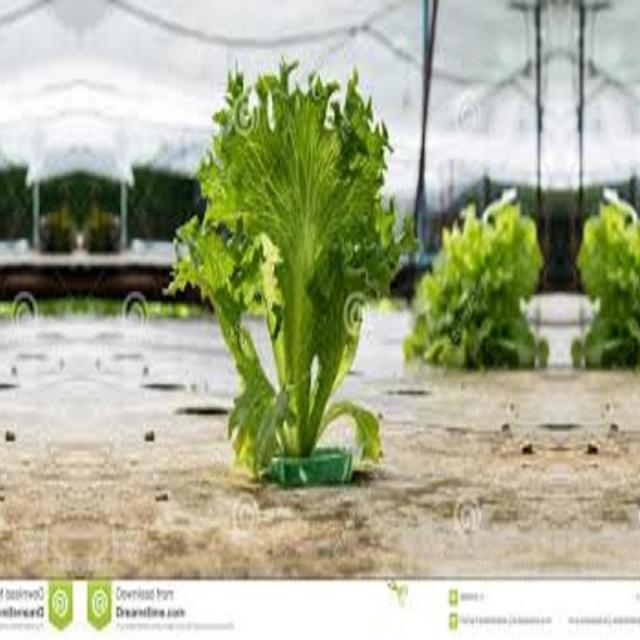healthy: (164, 62, 422, 482), (402, 183, 554, 373), (565, 183, 640, 373)
